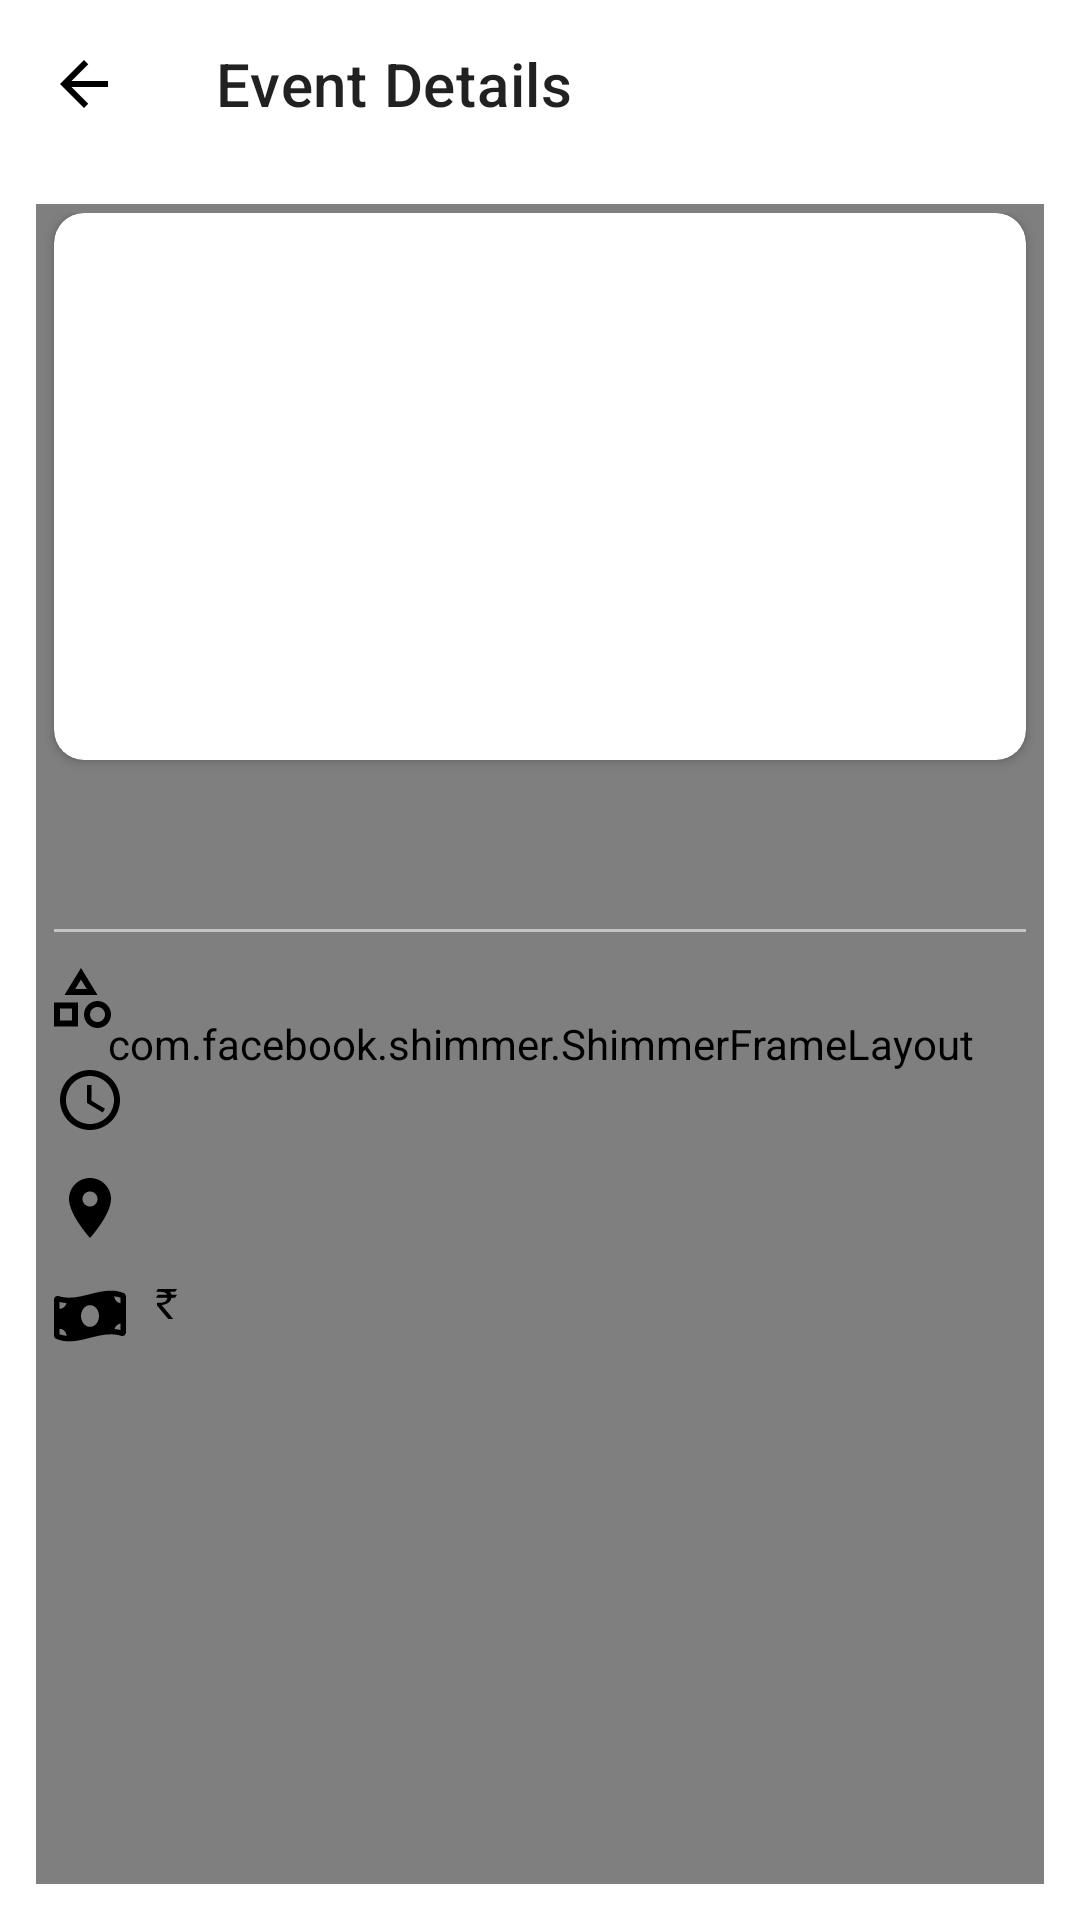

Screen size 1080x1920. Icon name, then its box in pixels as (x1, y1, x2, y2):
price: (54, 1290, 126, 1342)
